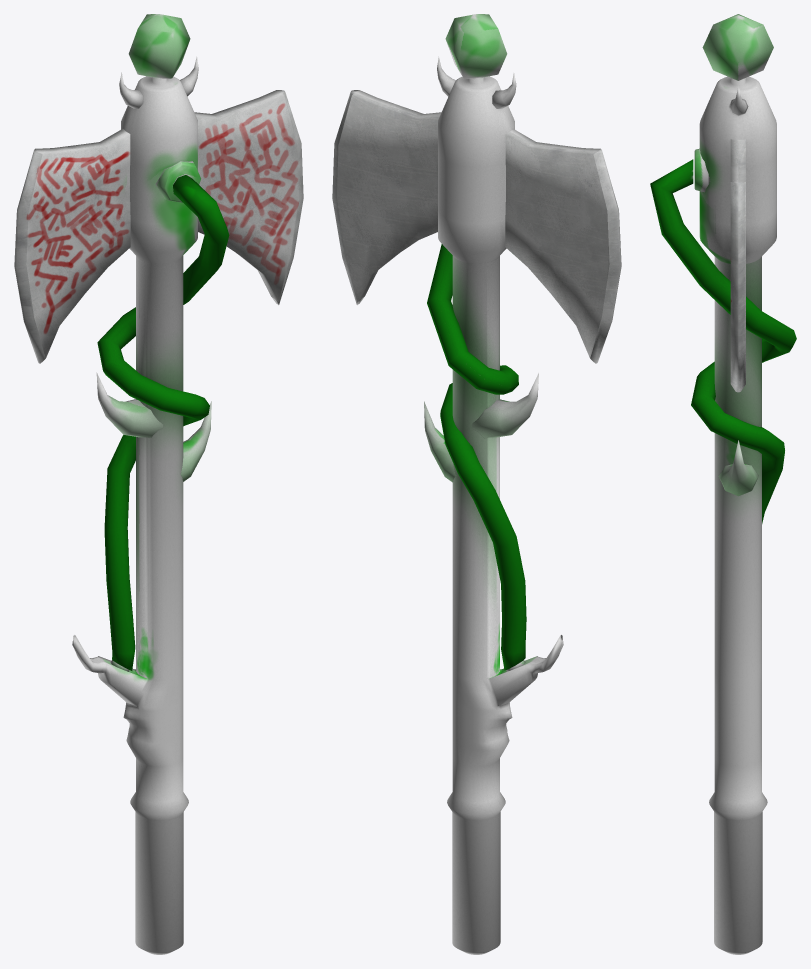
Rendered from Axe.fbx.
The picture shows the model from 3 angles, left to right: view 1: azimuth 30°, elevation 25°; view 2: azimuth 150°, elevation 25°; view 3: azimuth 270°, elevation 25°; orthographic projection.
Parts seen in each view (by area): view 1: Axe; view 2: Axe; view 3: Axe.
Boxes of the visible parts, left/top/right/bottom form: Axe: left=14, top=14, right=303, bottom=954; Axe: left=332, top=14, right=621, bottom=954; Axe: left=650, top=14, right=796, bottom=954.
Bounding box in the file's own units: 0.4806 × 1.49 × 0.2122.
